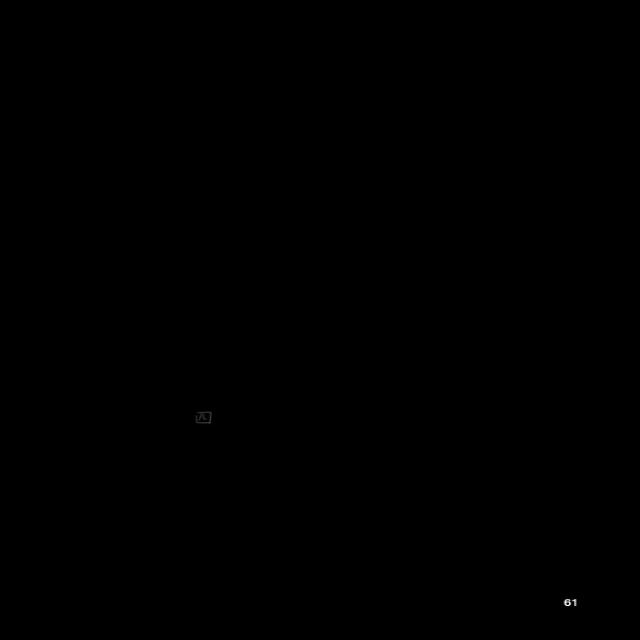4 -four-: (190, 408, 216, 427)
